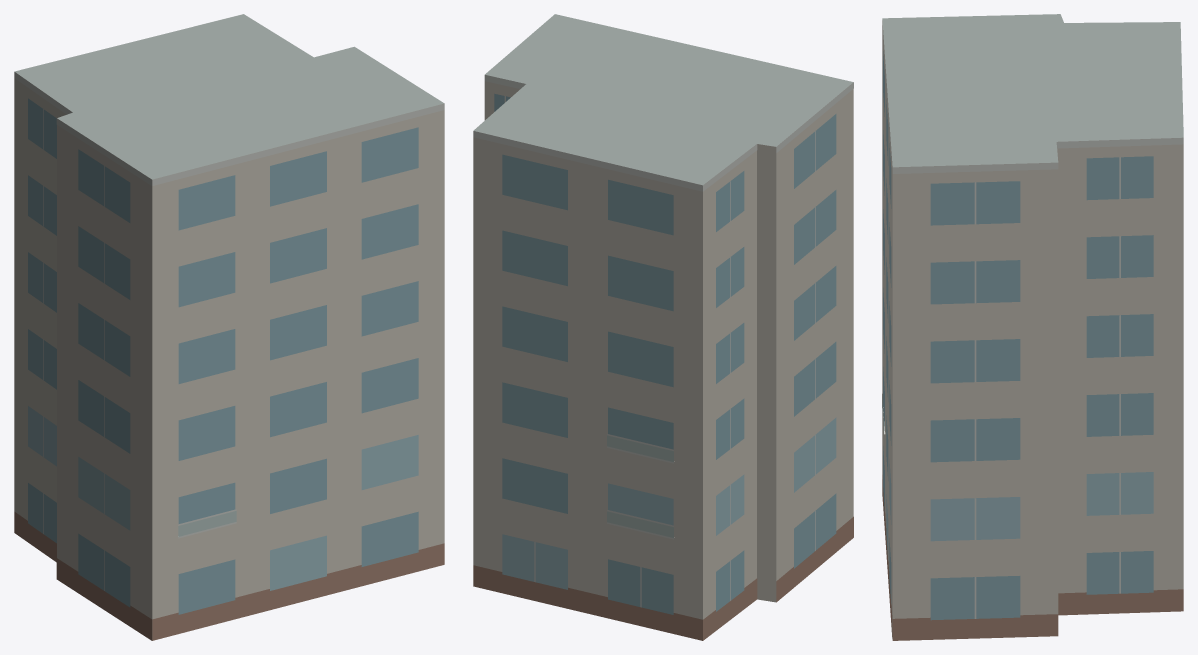
File: survey-upis-32549965.glb
3 views of the same model, side by side, from view 1: azimuth 30°, elevation 25°; view 2: azimuth 150°, elevation 25°; view 3: azimuth 270°, elevation 25° (orthographic). The views are drawn at different scales.
Visible parts, largest first — view 1: survey-upis-32549965.tmp; view 2: survey-upis-32549965.tmp; view 3: survey-upis-32549965.tmp.
Part boxes in pixels (<box>): survey-upis-32549965.tmp: <box>14,14,444,640</box>; survey-upis-32549965.tmp: <box>473,14,853,640</box>; survey-upis-32549965.tmp: <box>882,14,1183,640</box>.
Bounding box in the file's own units: 11.95 × 17.2 × 9.94.
